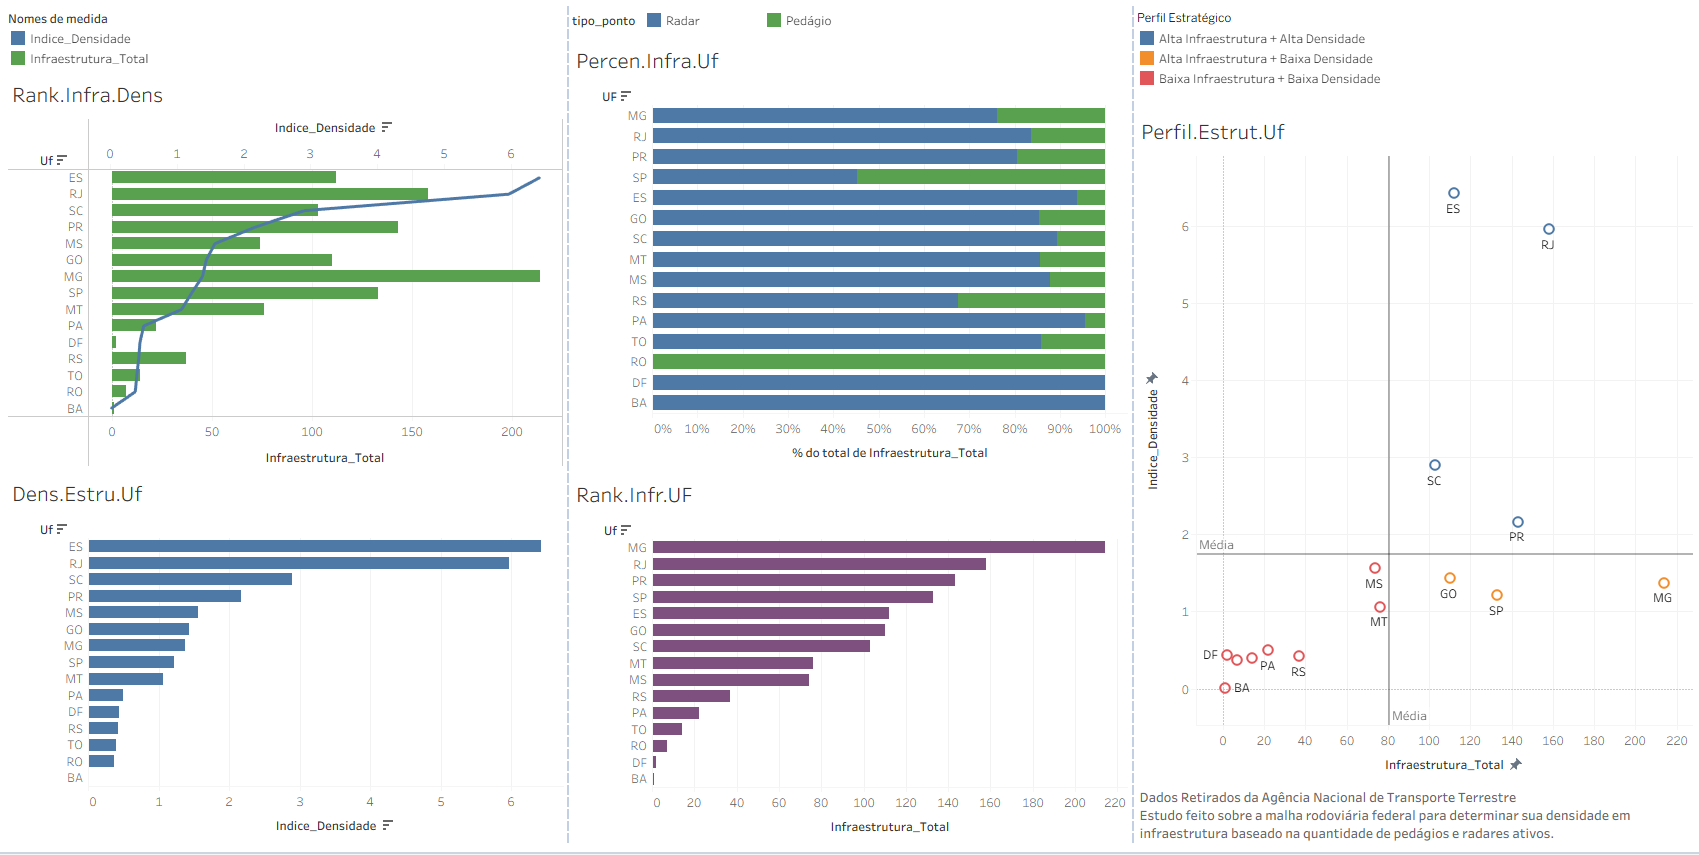

What the dashboard file says about the page in this screenshot:
{"tool":"tableau","page":{"name":"Análise Técnica","canvas":[1000,1000],"units":"permille","ordinal":0},"visuals":[{"type":"legend","title":"Rank.Infra.Dens","param":"[federated.0oyeios0yhks7h146pw8a1eaj9na].[:Measure Names]","box":[5.5,9.5,329.7,78.2]},{"type":"legend","title":"Percen.Infra.Uf","param":"[federated.0oyeios0yhks7h146pw8a1eaj9na].[none:Calculation_1022858796228609:nk]","box":[335.2,9.5,329.7,37.9]},{"type":"legend","title":"Perfil.Estrut.Uf","param":"[federated.0oyeios0yhks7h146pw8a1eaj9na].[usr:Calculation_1022858844098569:nk]","box":[664.8,9.5,329.7,122]},{"type":"worksheet","title":"Percen.Infra.Uf","mark":"Automatic","rows":["UF"],"box":[335.2,47.4,329.7,505.9]},{"type":"worksheet","title":"Rank.Infra.Dens","mark":"Bar","rows":["uf"],"cols":["Calculation_1022858817056772","Calculation_1022858826772485"],"box":[5.5,87.7,329.7,466.1]},{"type":"worksheet","title":"Perfil.Estrut.Uf","mark":"Automatic","rows":["Calculation_1022858826772485"],"cols":["Calculation_1022858817056772"],"box":[664.8,131.5,329.7,764.2]},{"type":"worksheet","title":"Rank.Infr.UF","mark":"Automatic","rows":["uf"],"cols":["Calculation_1022858817056772"],"box":[335.2,553.3,329.7,437.1]},{"type":"worksheet","title":"Dens.Estru.Uf","mark":"Automatic","rows":["uf"],"cols":["Calculation_1022858826772485"],"box":[5.5,553.8,329.7,436.5]},{"type":"text","box":[664.8,895.7,329.7,94.8]}]}

Visuals, with their boxes on the dashboard's canvas, which has no fixed pixel size, in thousandths of its width and height (x1, y1, x2, y2). These are canvas units, not pixel positions in the 1699x855 screenshot, which may show the page scaled, cropped or inside an application window:
"Rank.Infra.Dens" legend: [6, 10, 335, 88]
"Percen.Infra.Uf" legend: [335, 10, 665, 47]
"Perfil.Estrut.Uf" legend: [665, 10, 994, 132]
"Percen.Infra.Uf" worksheet: [335, 47, 665, 553]
"Rank.Infra.Dens" worksheet (Bar marks): [6, 88, 335, 554]
"Perfil.Estrut.Uf" worksheet: [665, 132, 994, 896]
"Rank.Infr.UF" worksheet: [335, 553, 665, 990]
"Dens.Estru.Uf" worksheet: [6, 554, 335, 990]
text: [665, 896, 994, 990]
